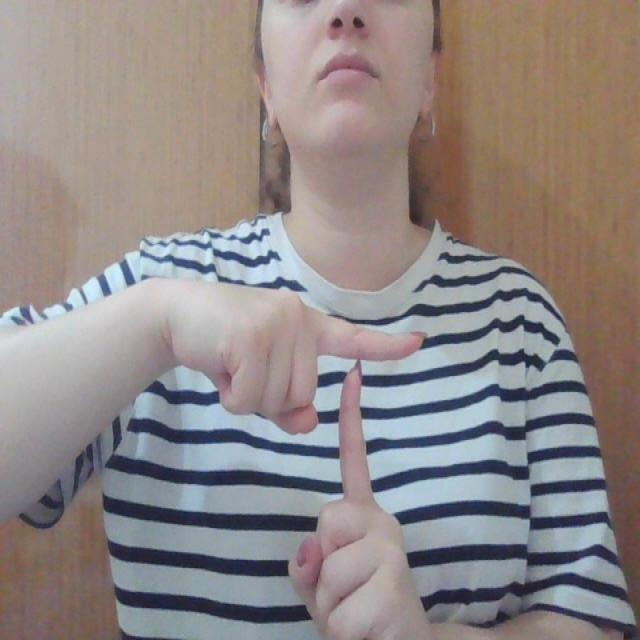Tesekkurler: (290, 287, 428, 517)
